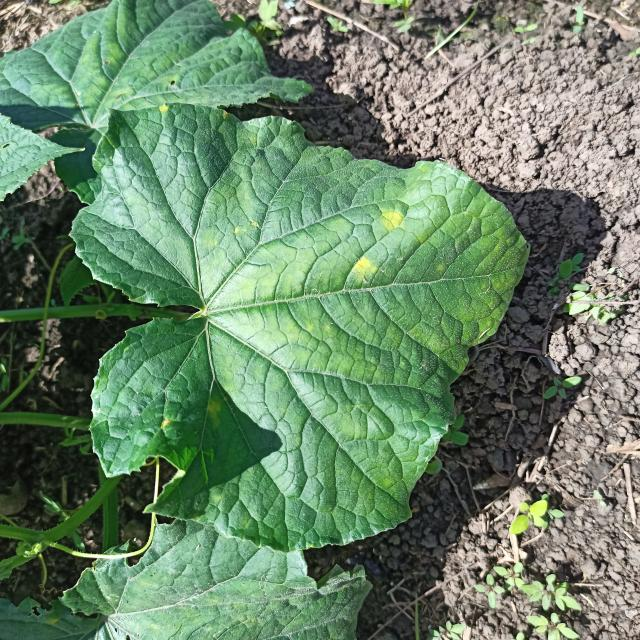disease_cucumber: (352, 254, 376, 278), (382, 209, 404, 232), (159, 104, 168, 113)
